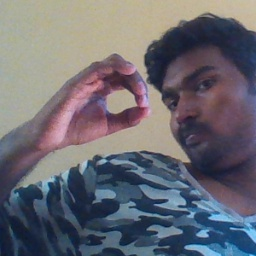O: (45, 49, 154, 148)
